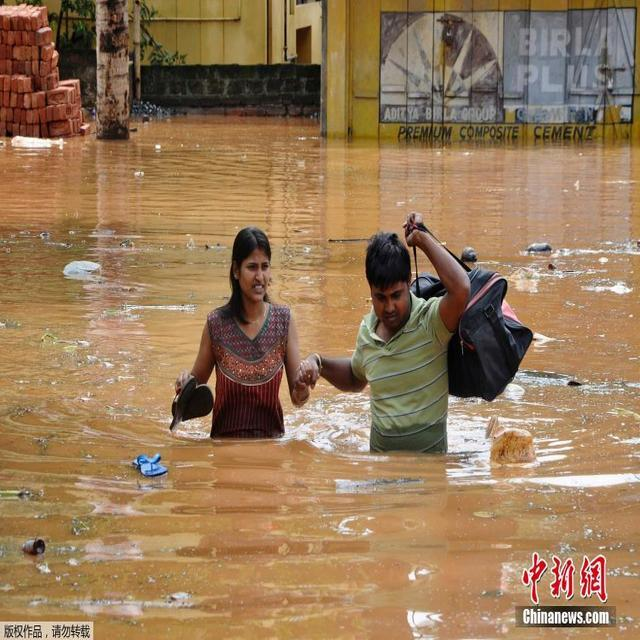Person-RiskLevel3: (302, 214, 510, 453), (168, 218, 311, 465)
